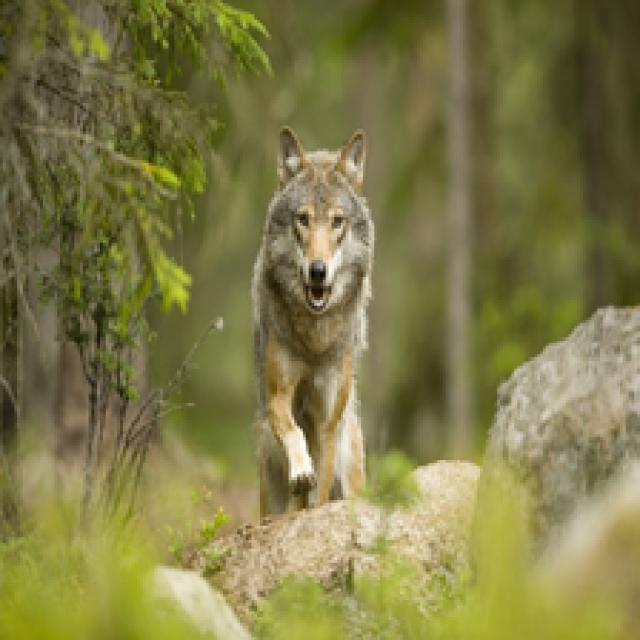wolf: (235, 121, 404, 554)
